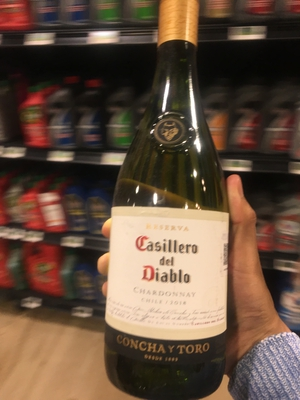casillero del diablo chardonnay: (106, 22, 231, 393)
